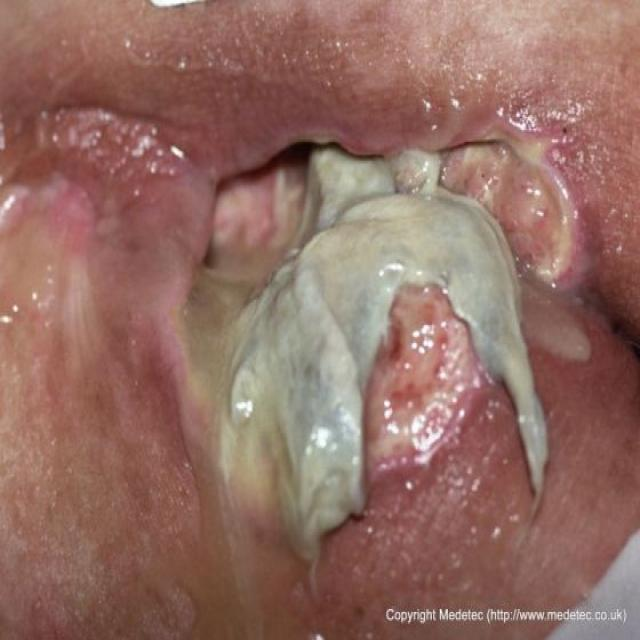Unstageable: (186, 142, 575, 557)
